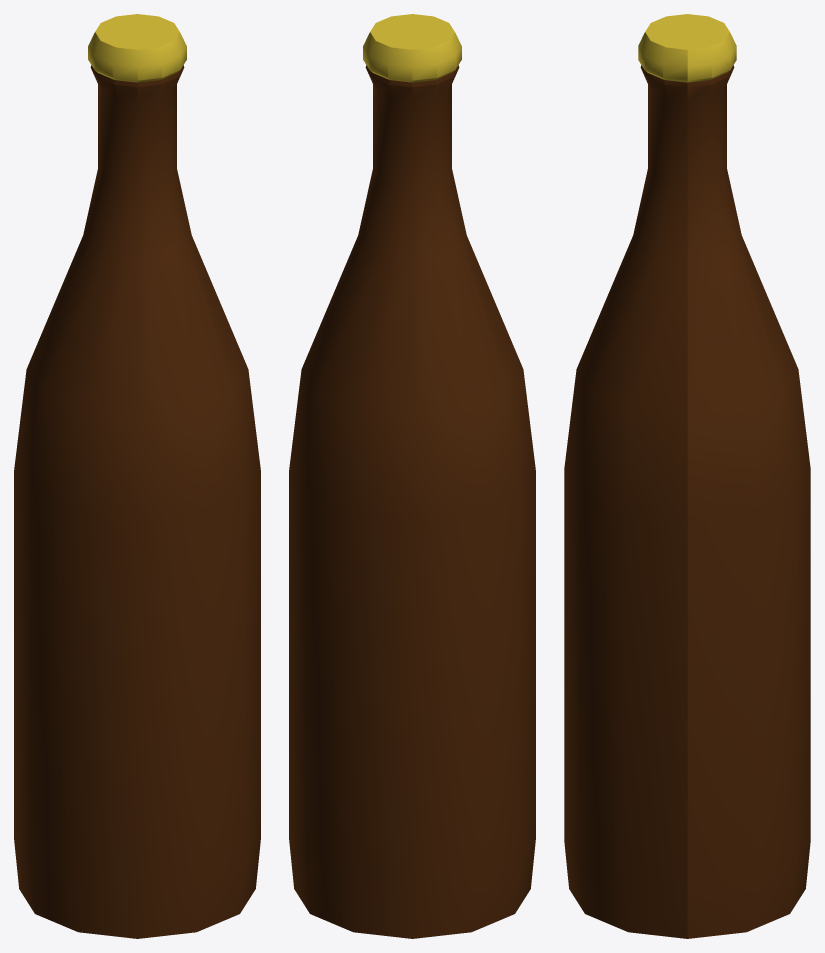
File: BeerBottle.obj
The picture shows the model from 3 angles, left to right: view 1: azimuth 30°, elevation 25°; view 2: azimuth 150°, elevation 25°; view 3: azimuth 270°, elevation 25°; orthographic projection.
Parts seen in each view (by area): view 1: beer-bottle_0, beer-bottle_1; view 2: beer-bottle_0, beer-bottle_1; view 3: beer-bottle_0, beer-bottle_1.
Boxes of the visible parts, box(x1,y1,x2,y2) form: beer-bottle_0: box(14, 65, 260, 938); beer-bottle_1: box(88, 14, 186, 82); beer-bottle_0: box(289, 65, 535, 938); beer-bottle_1: box(363, 14, 461, 82); beer-bottle_0: box(564, 65, 810, 938); beer-bottle_1: box(638, 14, 736, 82).
Size of the model in its own units: 0.064 by 0.2454 by 0.064.
